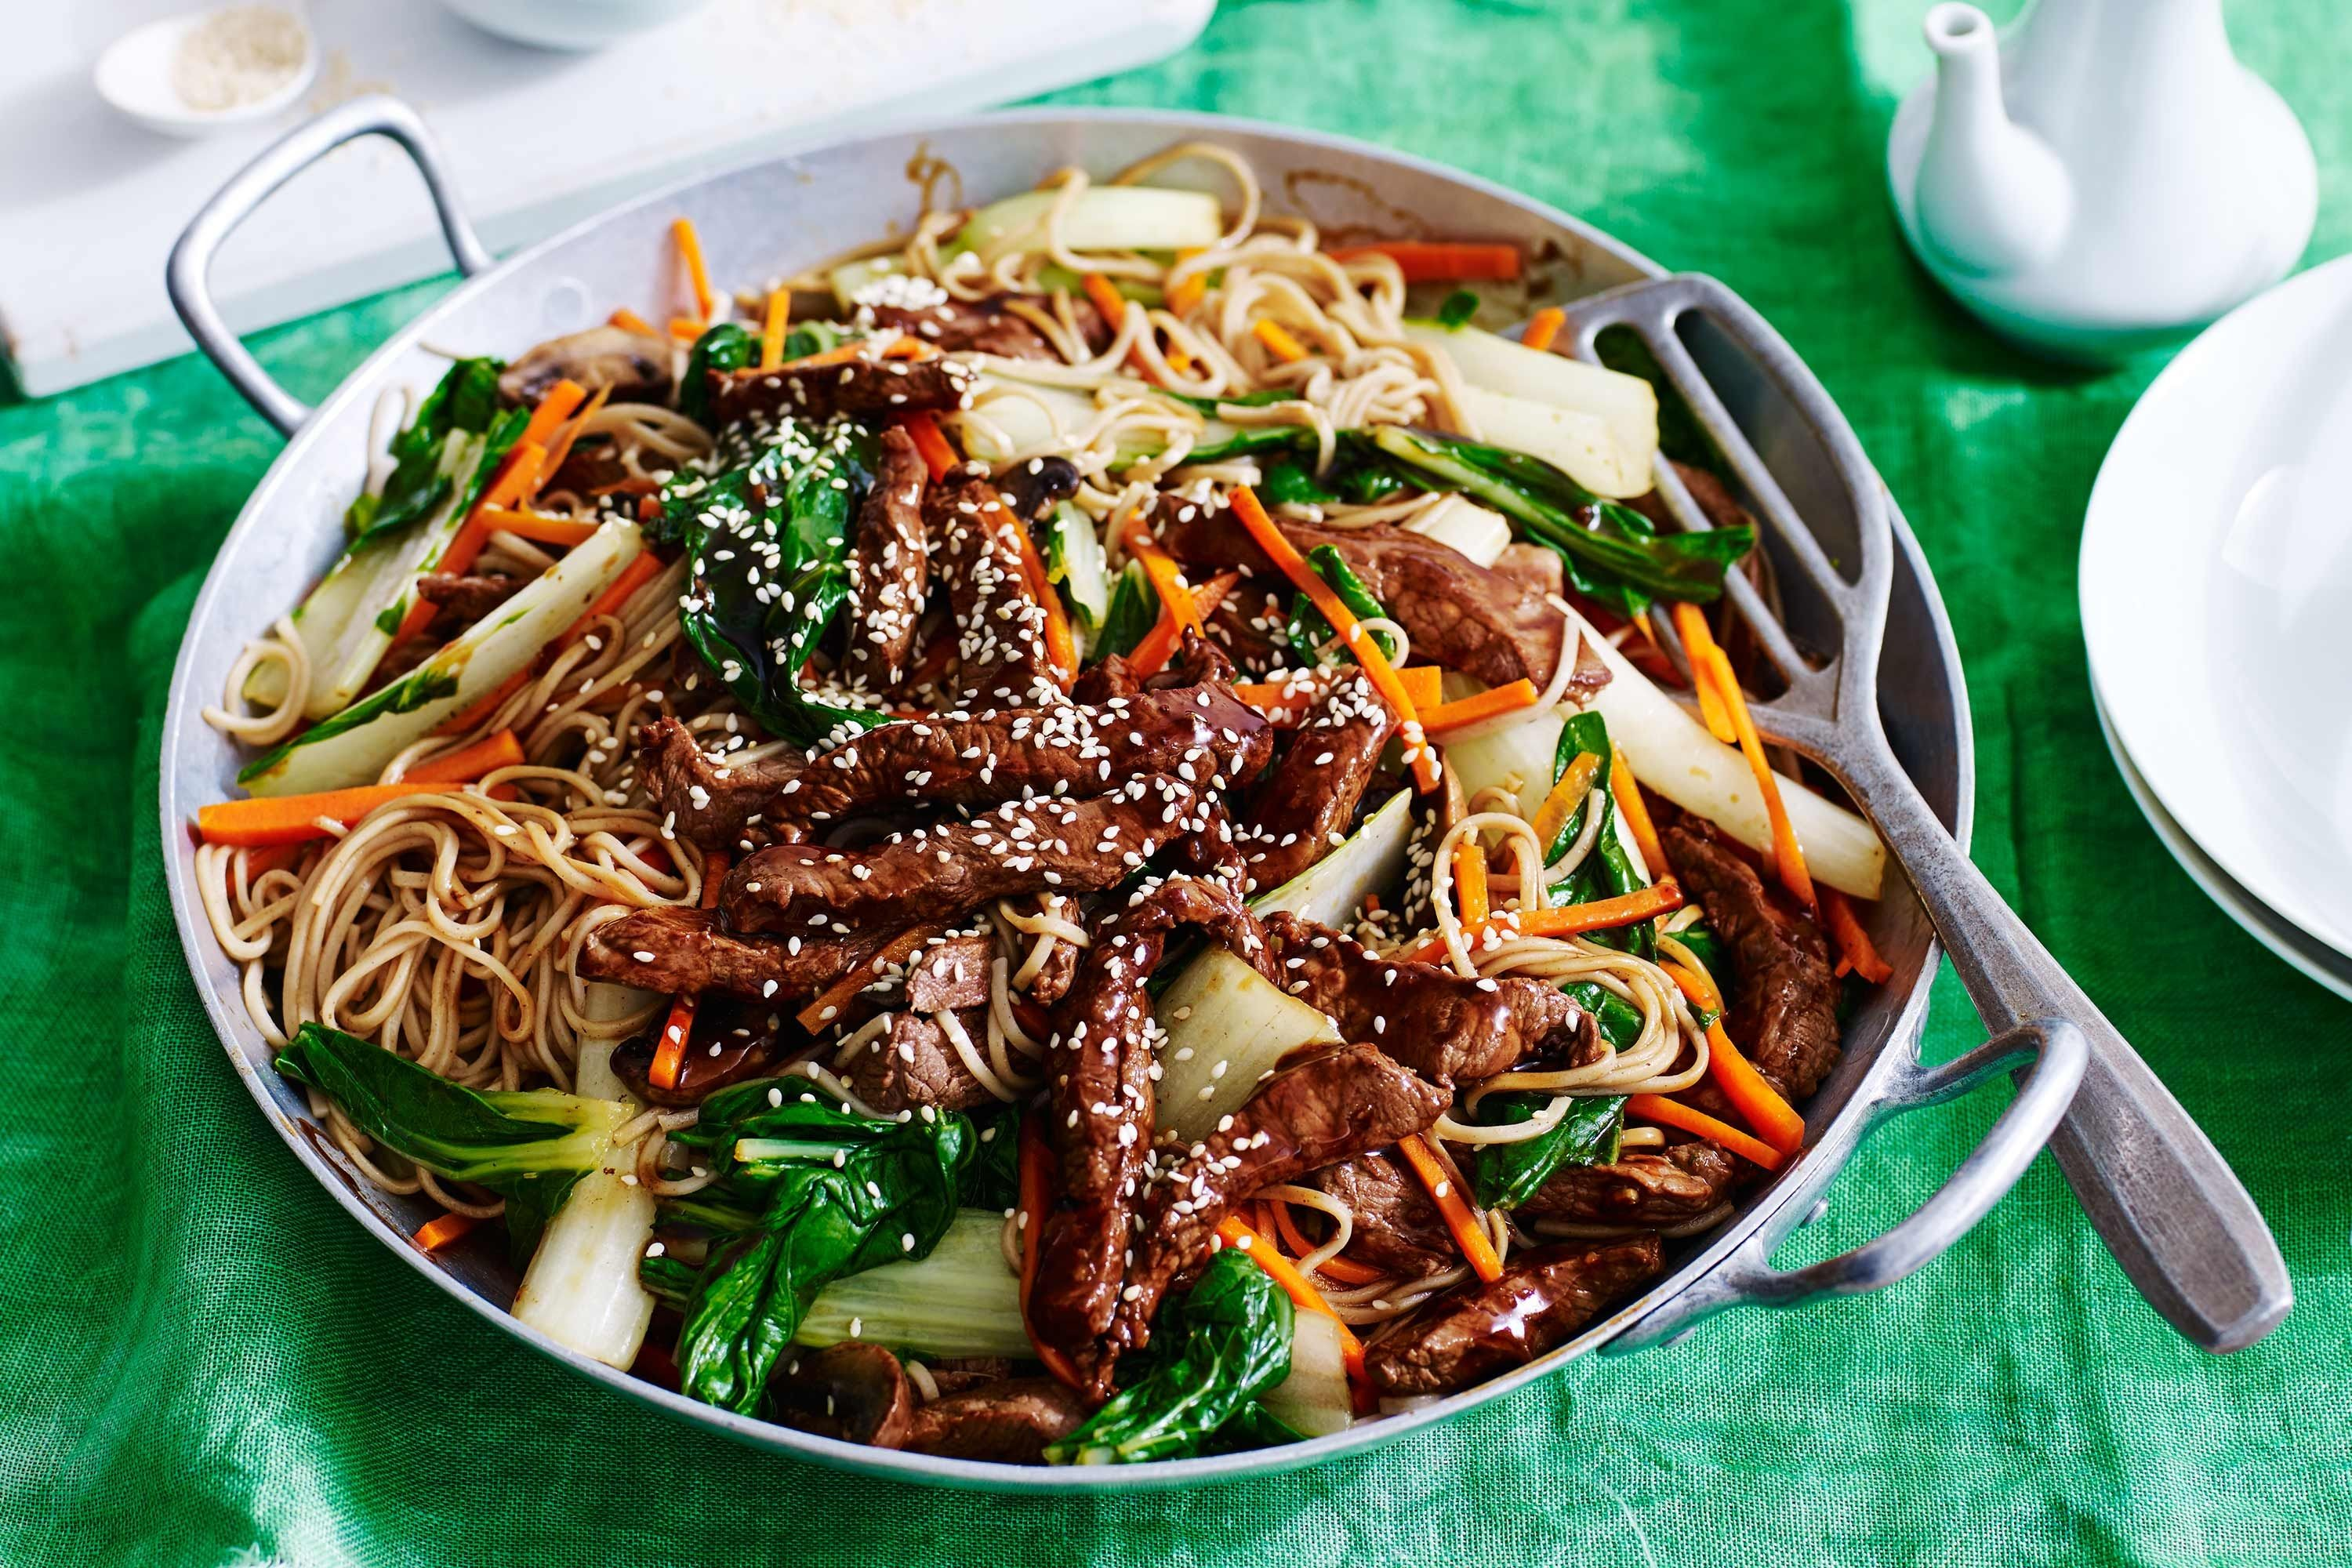Soba: (250, 196, 1822, 1480)
